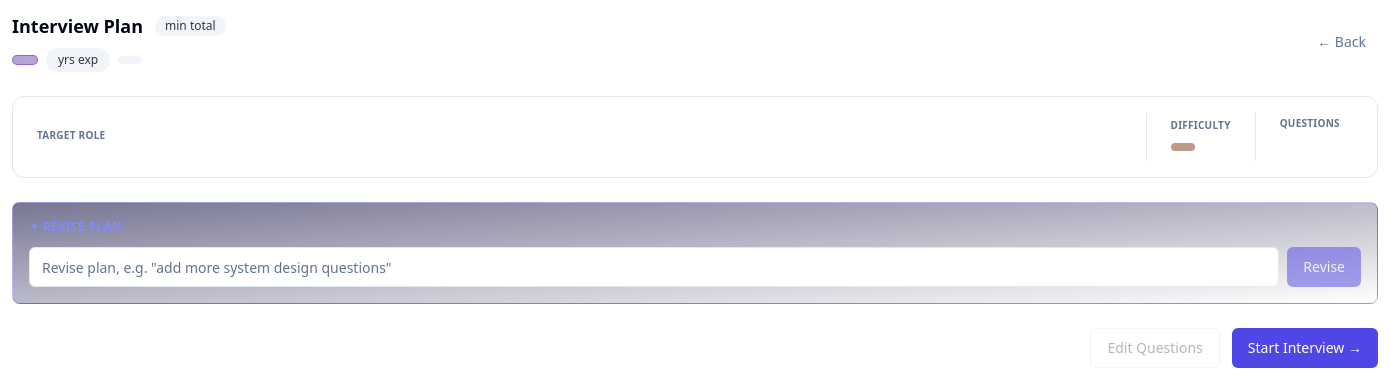
Test: PlanStep revise bar › Revise button becomes enabled when input has text
Type "add more system design questions" into the field with placeholder "Revise plan, e.g. \"add more system design questions\"" at (654, 267), box top-left (29, 247), bottom-right (1279, 287)
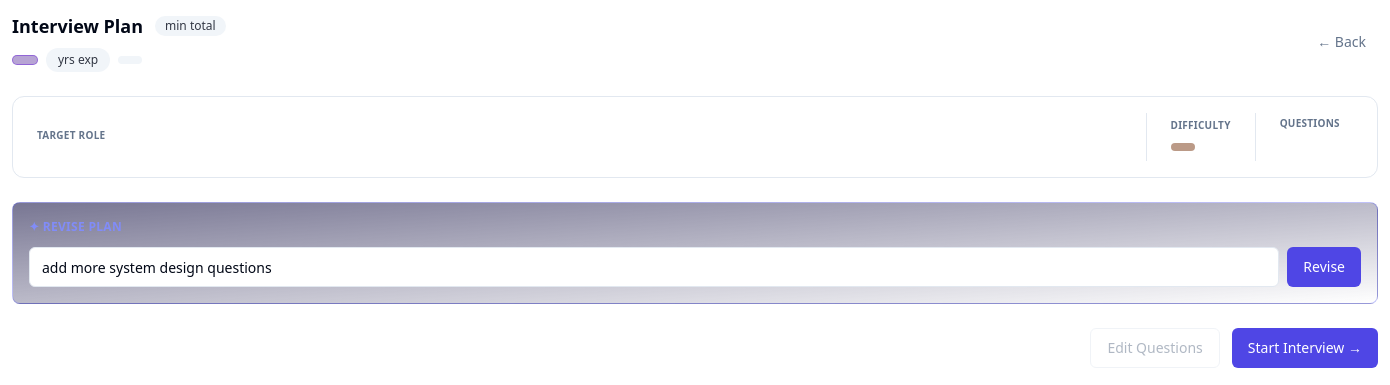
Now the button "Revise" is enabled, box top-left (1287, 247), bottom-right (1361, 287)
